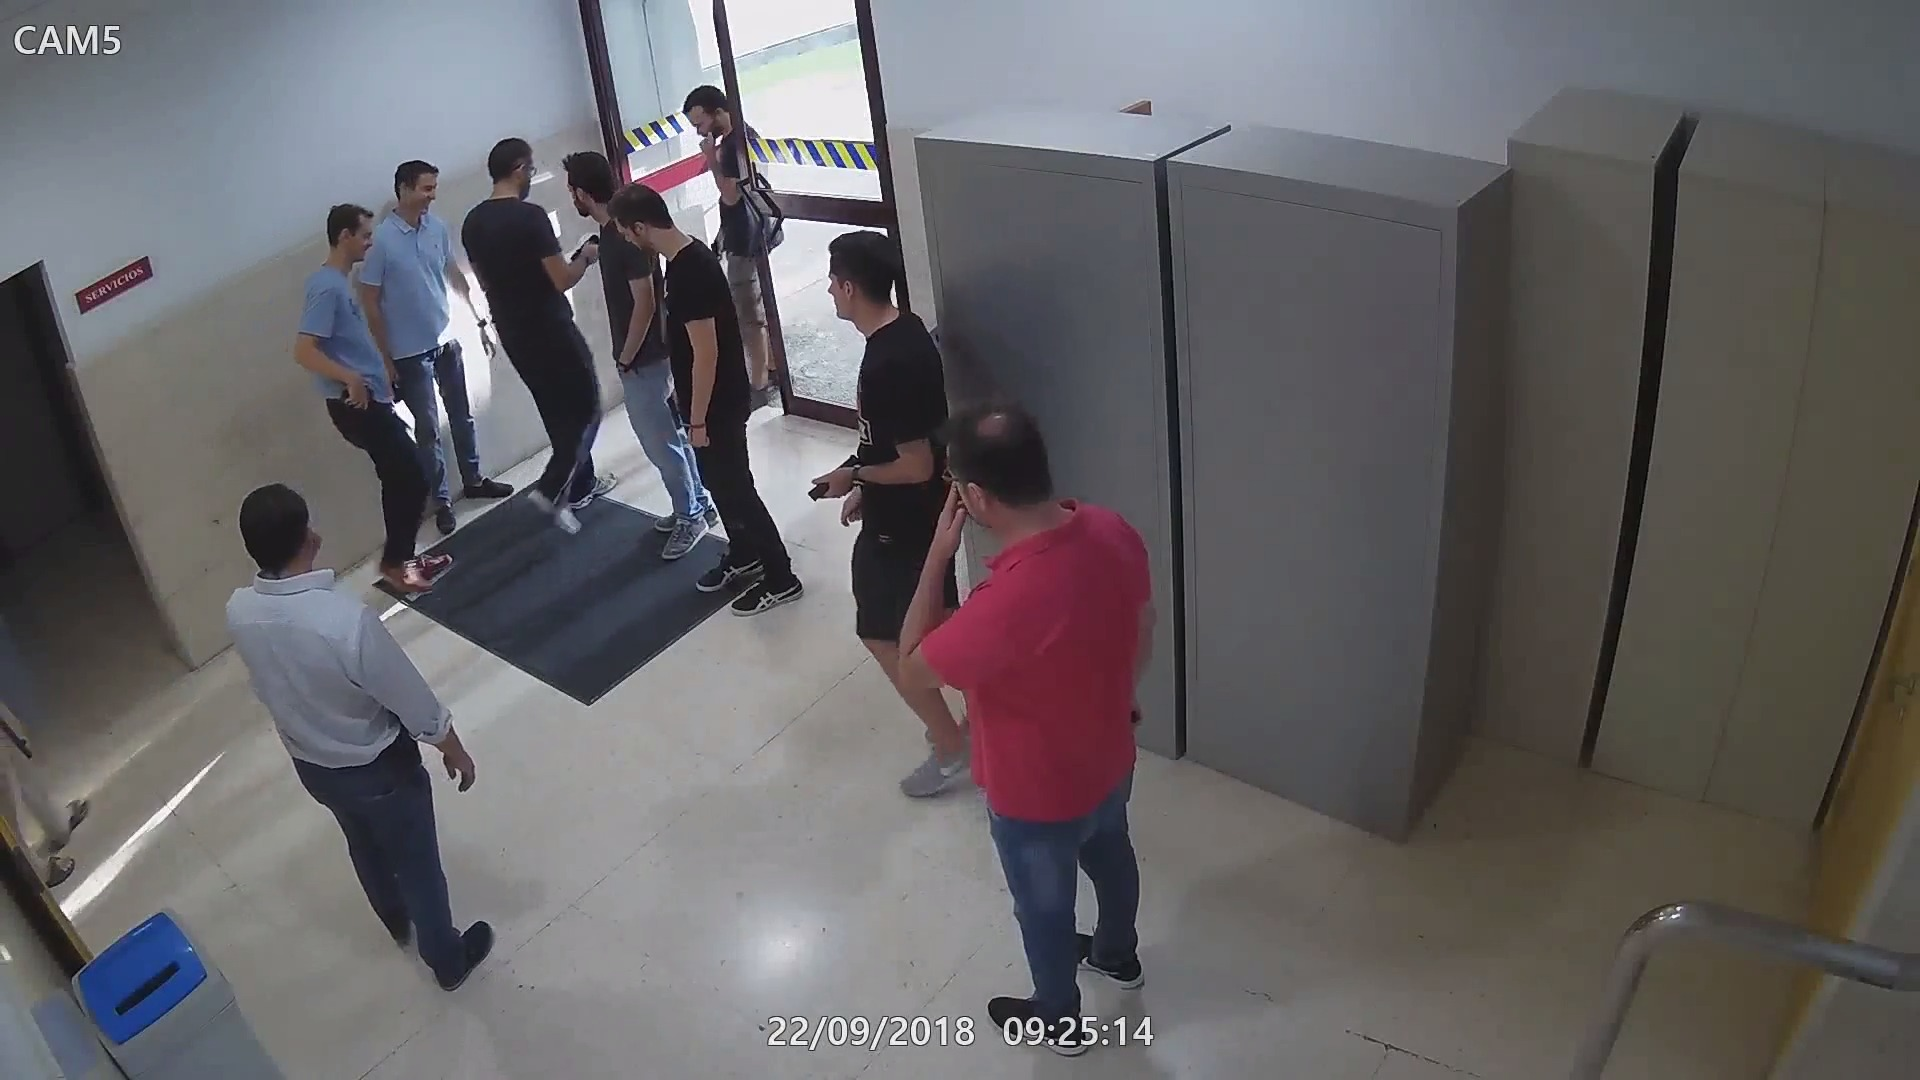Handgun: (807, 440, 866, 506), (390, 721, 427, 781), (335, 378, 376, 429)
